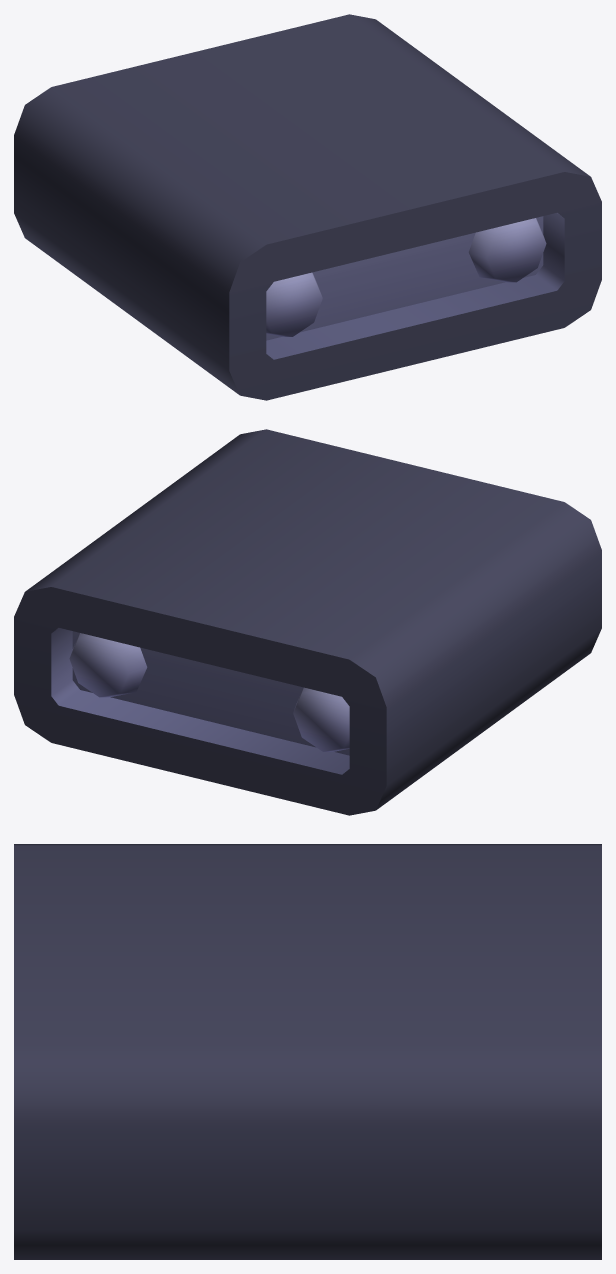
Rendered from kenney-conveyor-conveyor.glb.
3 renders of one model, top to bottom at view 1: azimuth 30°, elevation 25°; view 2: azimuth 150°, elevation 25°; view 3: azimuth 270°, elevation 25°, orthographic. The views are drawn at different scales.
Visible parts, largest first — view 1: conveyor; view 2: conveyor; view 3: conveyor.
Boxes of the visible parts, x1=… form: conveyor: x1=14, y1=14, x2=601, y2=400; conveyor: x1=14, y1=429, x2=601, y2=815; conveyor: x1=14, y1=844, x2=601, y2=1259.
Bounding box in the file's own units: 1 × 0.3999 × 1.
Materials: 1 (1 with a texture image).
